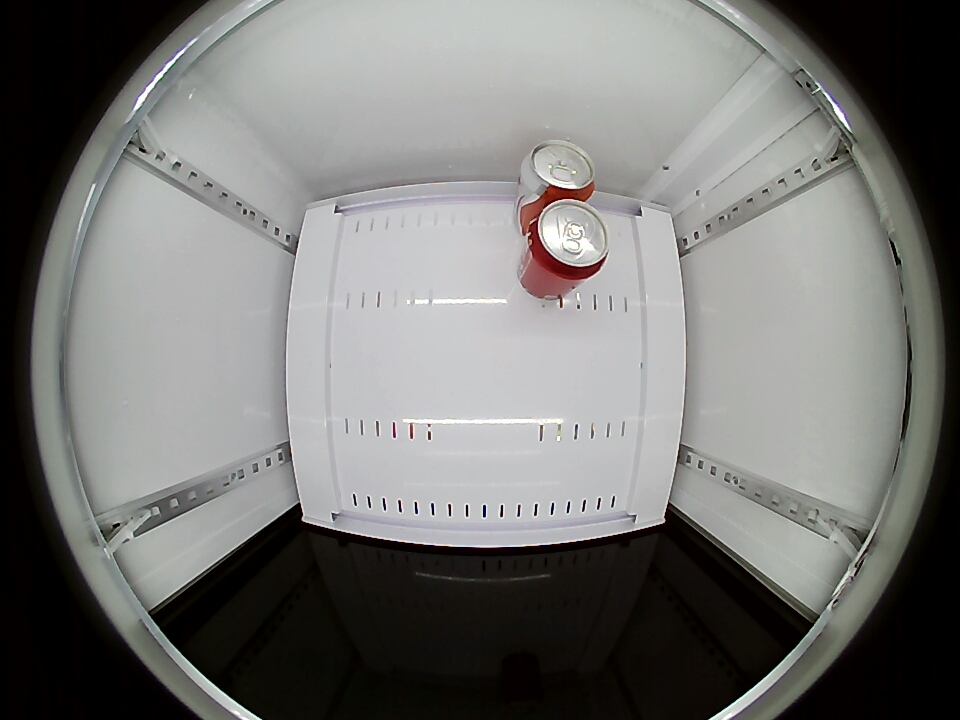jianlibao: (520, 140, 597, 200)
kele: (524, 199, 611, 281)
